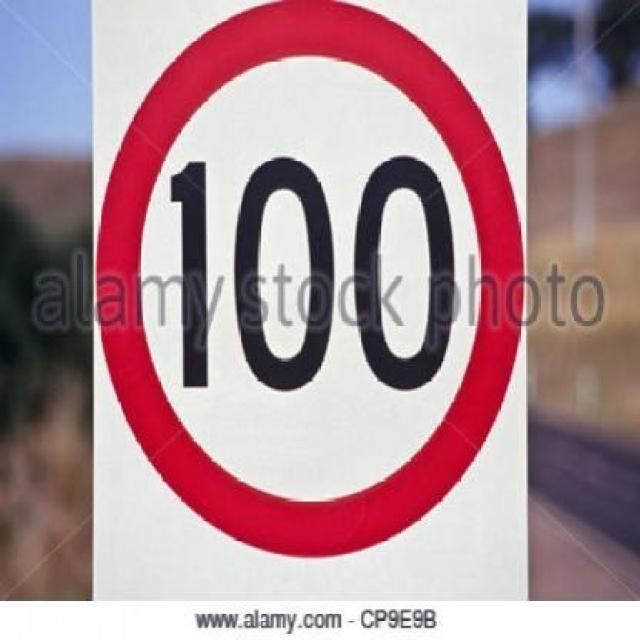forb_speed_over_100: (106, 0, 517, 545)
